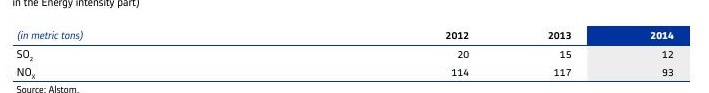table: (0, 0, 709, 93)
